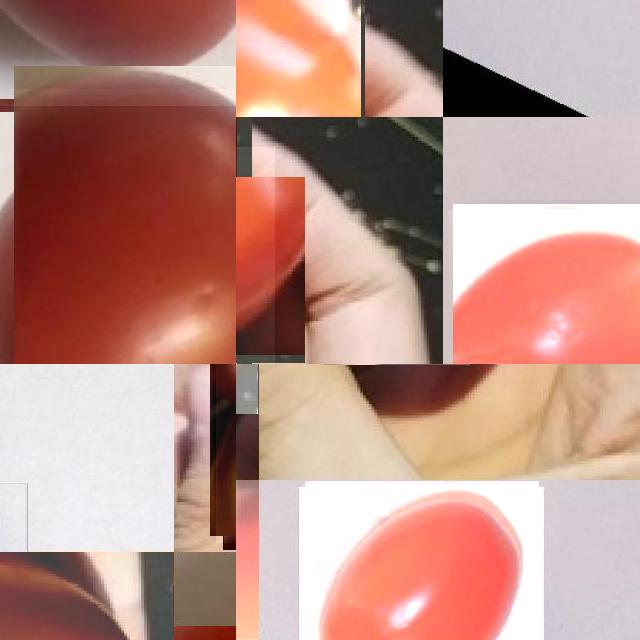0: (301, 484, 541, 640), (453, 204, 640, 364), (236, 0, 361, 117)
Fresh Tomato: (0, 89, 236, 364), (0, 0, 236, 105)
Rotten Tomato: (0, 552, 174, 640)
